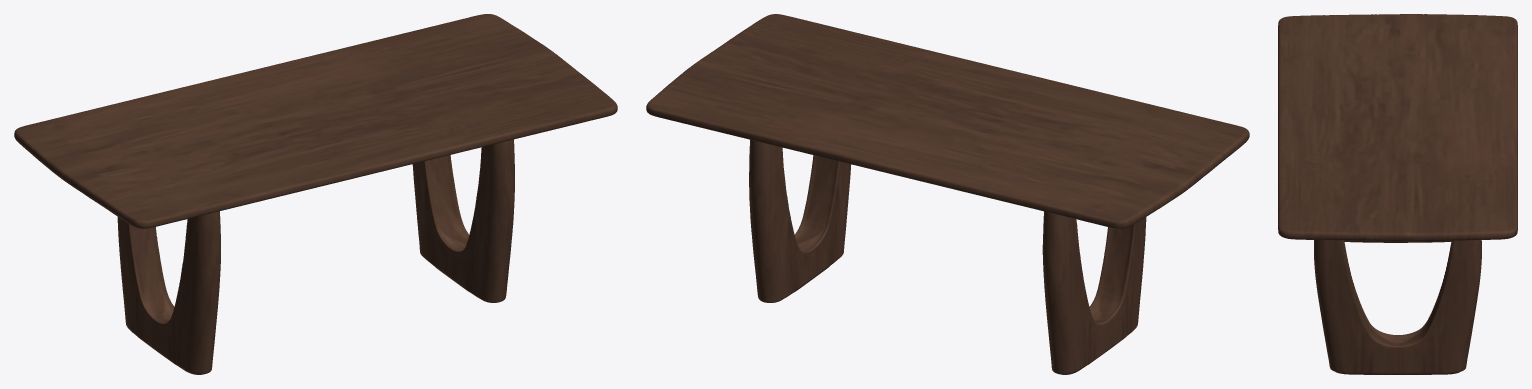
Rendered from dining_table_001.glb.
The picture shows the model from 3 angles, left to right: view 1: azimuth 30°, elevation 25°; view 2: azimuth 150°, elevation 25°; view 3: azimuth 270°, elevation 25°; orthographic projection. The views are drawn at different scales.
Visible parts, largest first — view 1: world; view 2: world; view 3: world.
Part boxes in pixels (x1=…): world: x1=14, y1=14, x2=617, y2=374; world: x1=646, y1=14, x2=1249, y2=374; world: x1=1278, y1=14, x2=1517, y2=374.
Bounding box in the file's own units: 1 × 0.3812 × 0.4591.
1 material, 1 textured.
